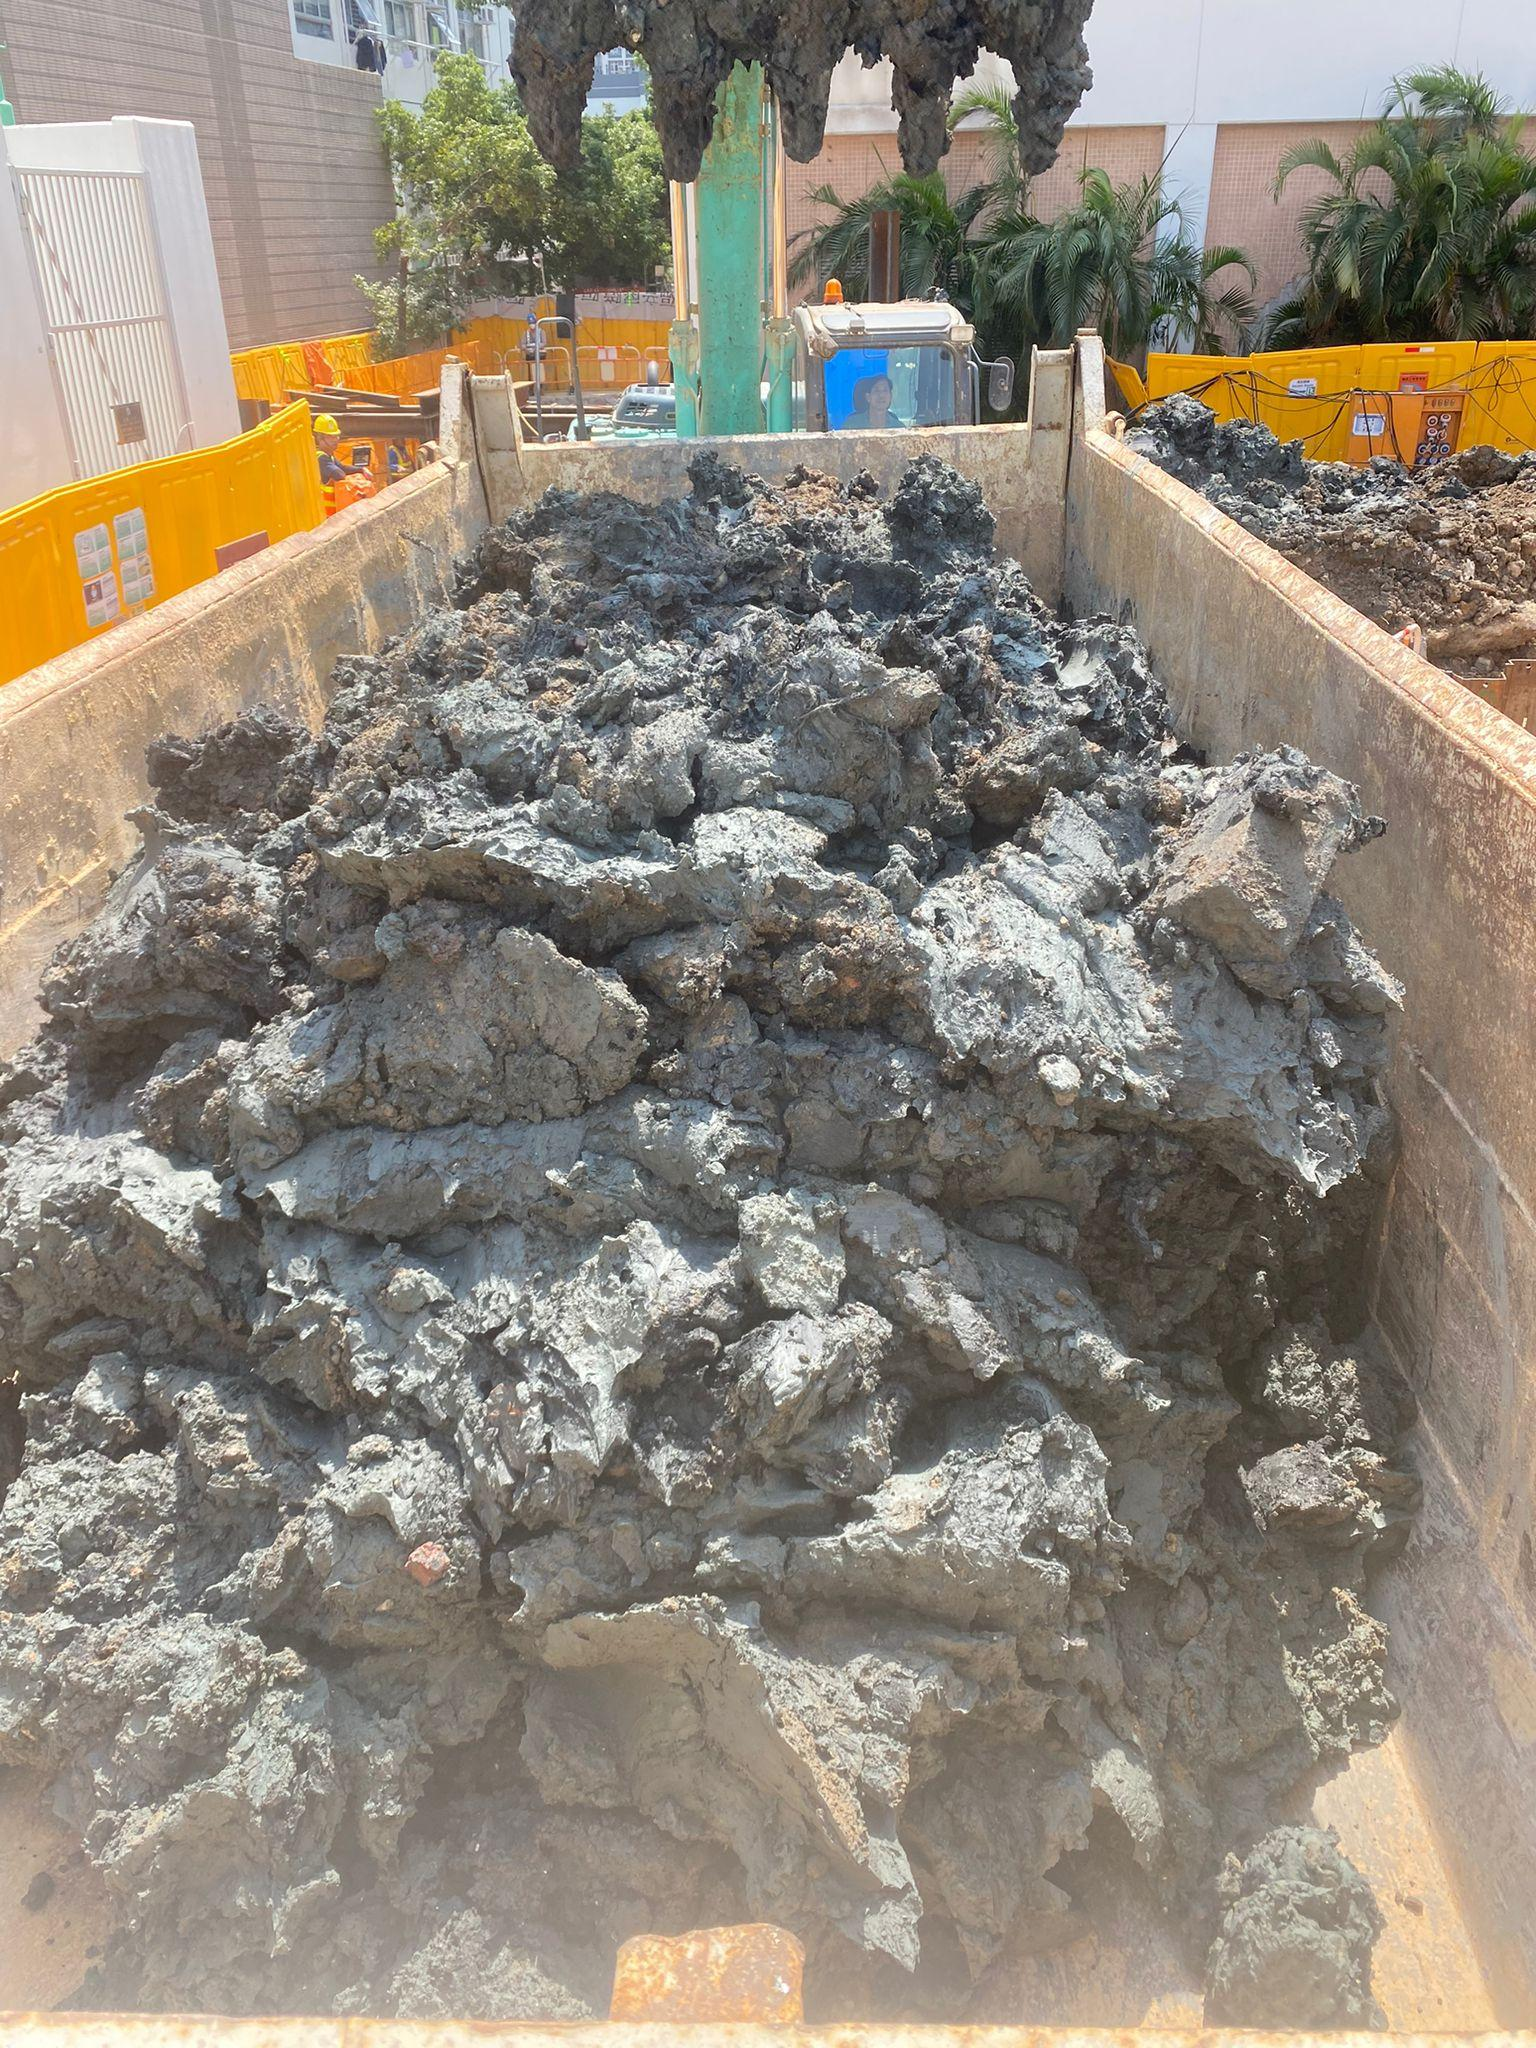wet: (16, 453, 1379, 2017)
